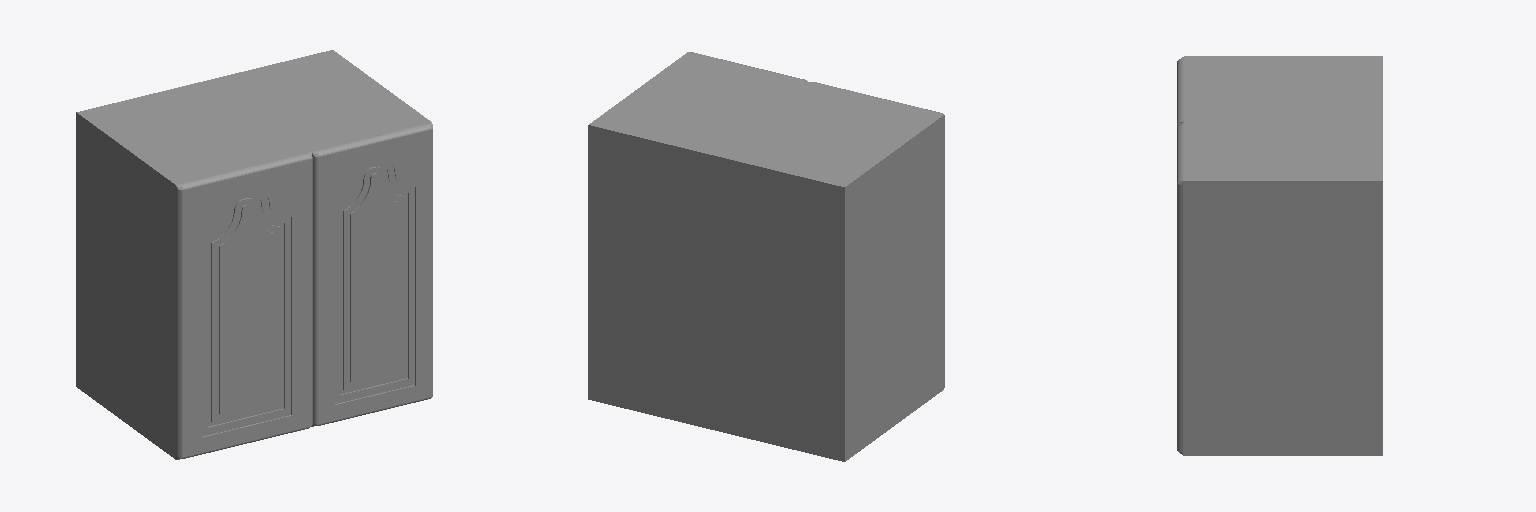
The model's file is double-base-unit-850.obj.
3 views of the same model, side by side, from view 1: azimuth 30°, elevation 25°; view 2: azimuth 150°, elevation 25°; view 3: azimuth 270°, elevation 25° (orthographic).
Visible parts, largest first — view 1: Cube.003_Cube.008, Cube.004_Cube.000, Cube.002_Cube.004, Cube_Cube.002; view 2: Cube_Cube.002, Cube.002_Cube.004, Cube.001_Cube.003; view 3: Cube.001_Cube.003, Cube_Cube.002, Cube.004_Cube.000.
Part boxes in pixels (x1,y1,x2,y2): Cube.003_Cube.008: (176,152,312,459); Cube.004_Cube.000: (312,123,432,426); Cube.002_Cube.004: (76,111,179,459); Cube_Cube.002: (81,51,427,183); Cube_Cube.002: (593,53,938,460); Cube.002_Cube.004: (840,114,943,461); Cube.001_Cube.003: (588,52,691,400); Cube.001_Cube.003: (1184,179,1382,455); Cube_Cube.002: (1184,58,1382,178); Cube.004_Cube.000: (1177,123,1183,455).
Bounding box in the file's own units: 170 × 174 × 118.